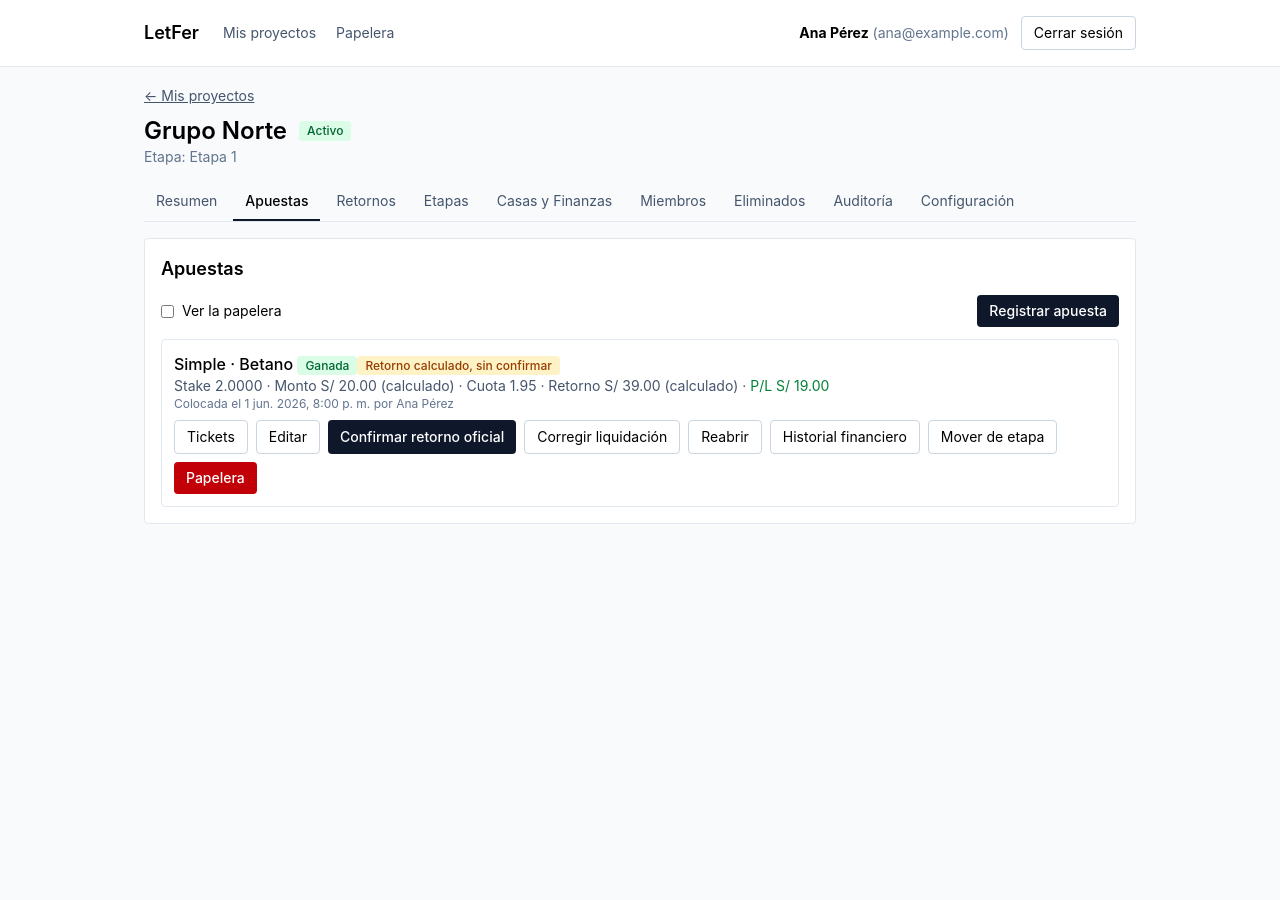
confirmar el retorno oficial (§77, §112.2, D-A12) › con diferencia muestra calculado, oficial y diferencia, y exige confirmarla y la contraseña
This screenshot has width=1280, height=900.
Click the button "Confirmar retorno oficial" at coordinates (422, 437), box [328,420,516,454]
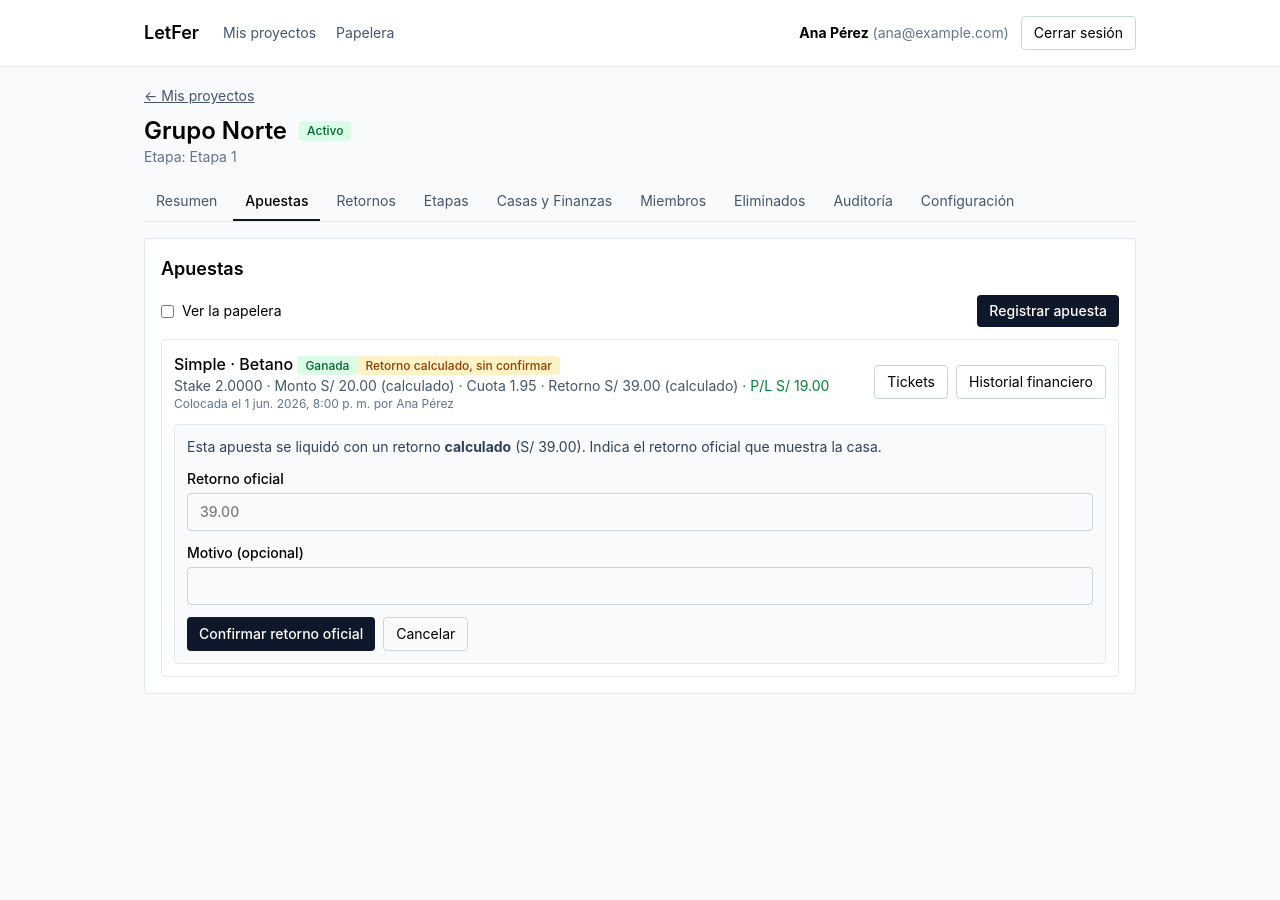
Type "38.50" into the field labelled "Retorno oficial" at coordinates (640, 512), box [187,493,1093,531]
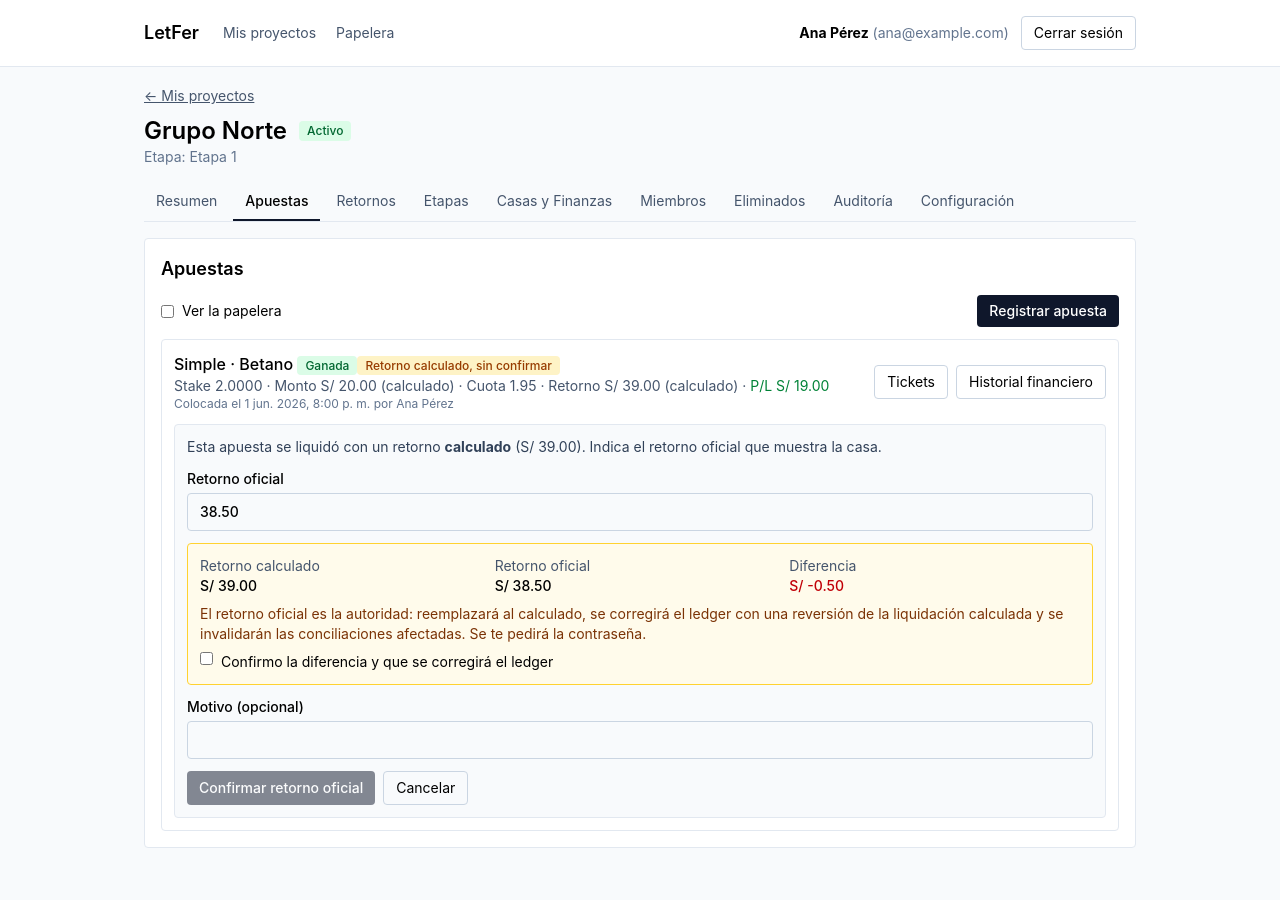
expect the text "Retorno calculado" is shown: met, box [200,557,320,574]
expect the text "S/ 39.00" is shown: met, box [200,577,257,594]
expect the text "S/ 38.50" is shown: met, box [495,577,552,594]
Click the checkbox labelled "Confirmo la diferencia y que se corregirá el ledger" at coordinates (206, 658), box [200,652,213,665]
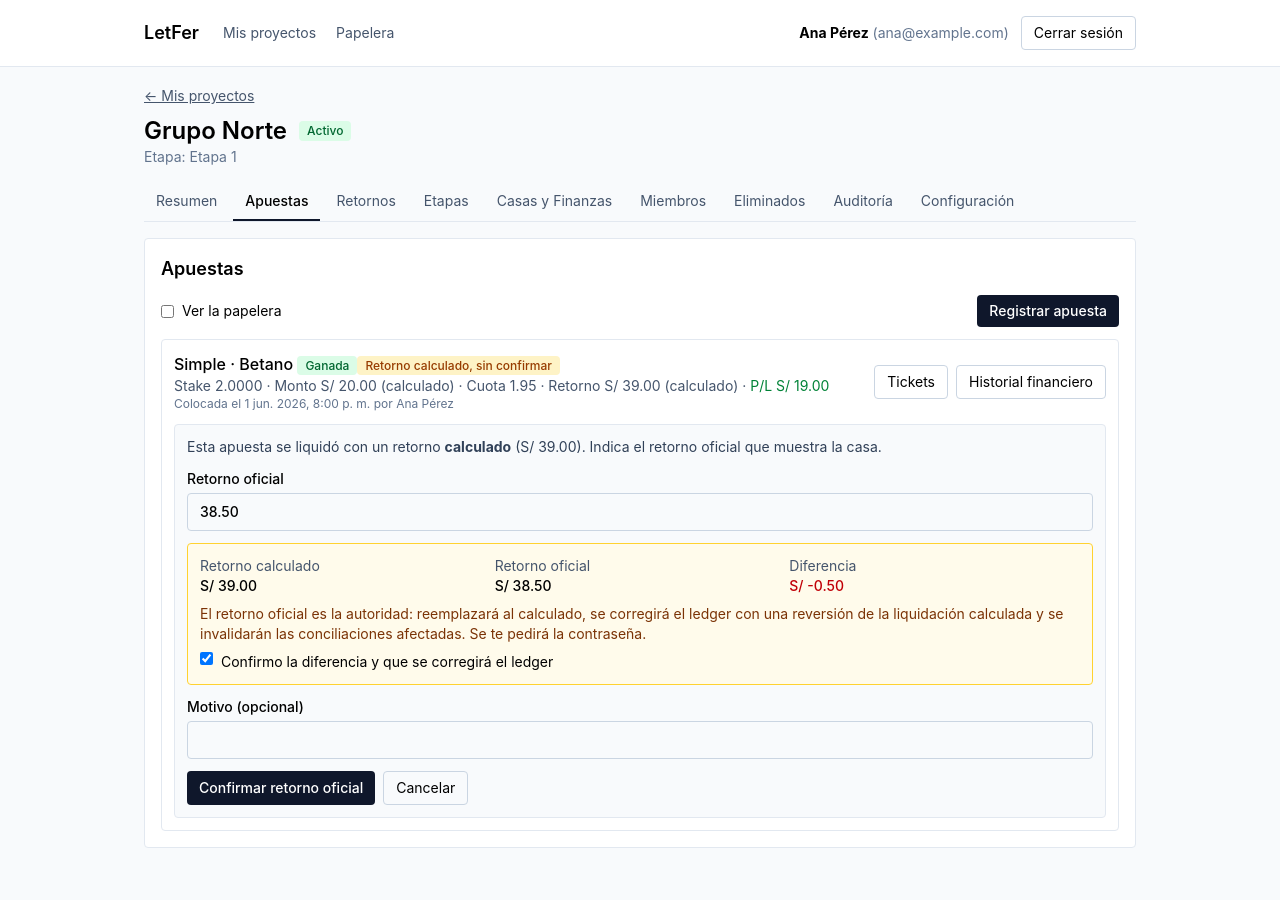
expect the button "Confirmar retorno oficial" is enabled: met
Click the button "Confirmar retorno oficial" at coordinates (281, 788), box [187,771,375,805]
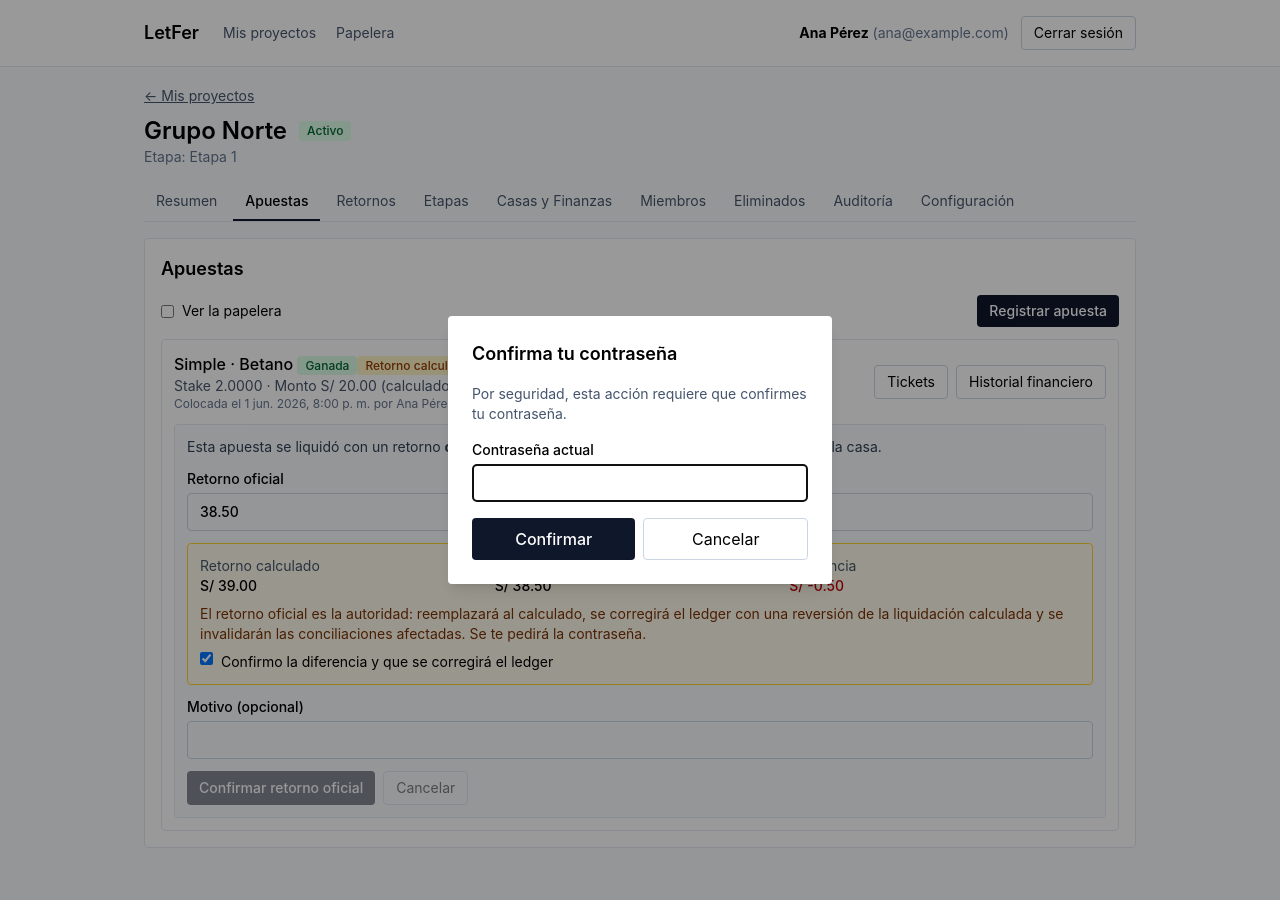
Type "mi-clave-secreta" into the password field labelled "Contraseña actual" at coordinates (640, 483), box [472,464,808,502]
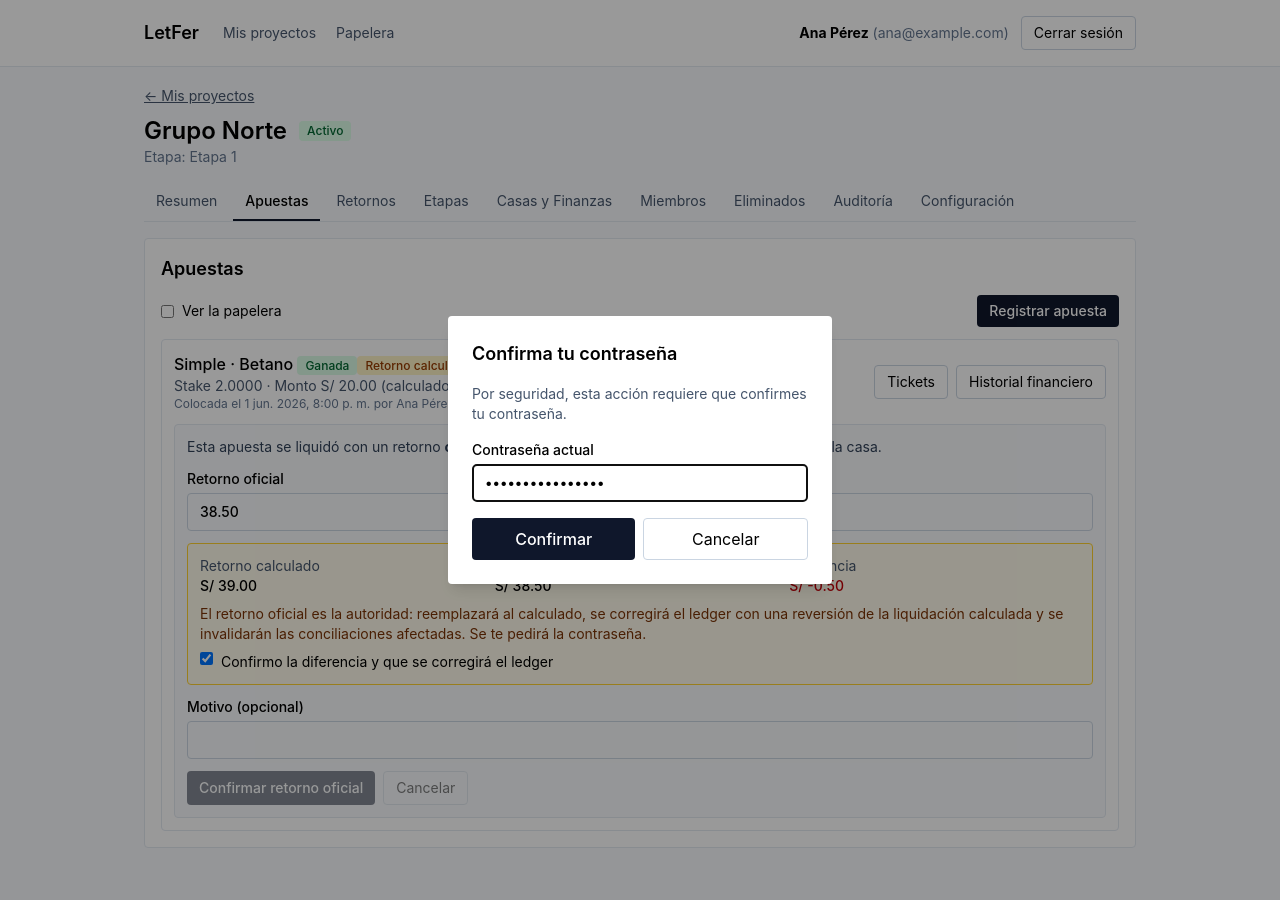
Click the button "Confirmar" at coordinates (554, 539), box [472,518,635,560]
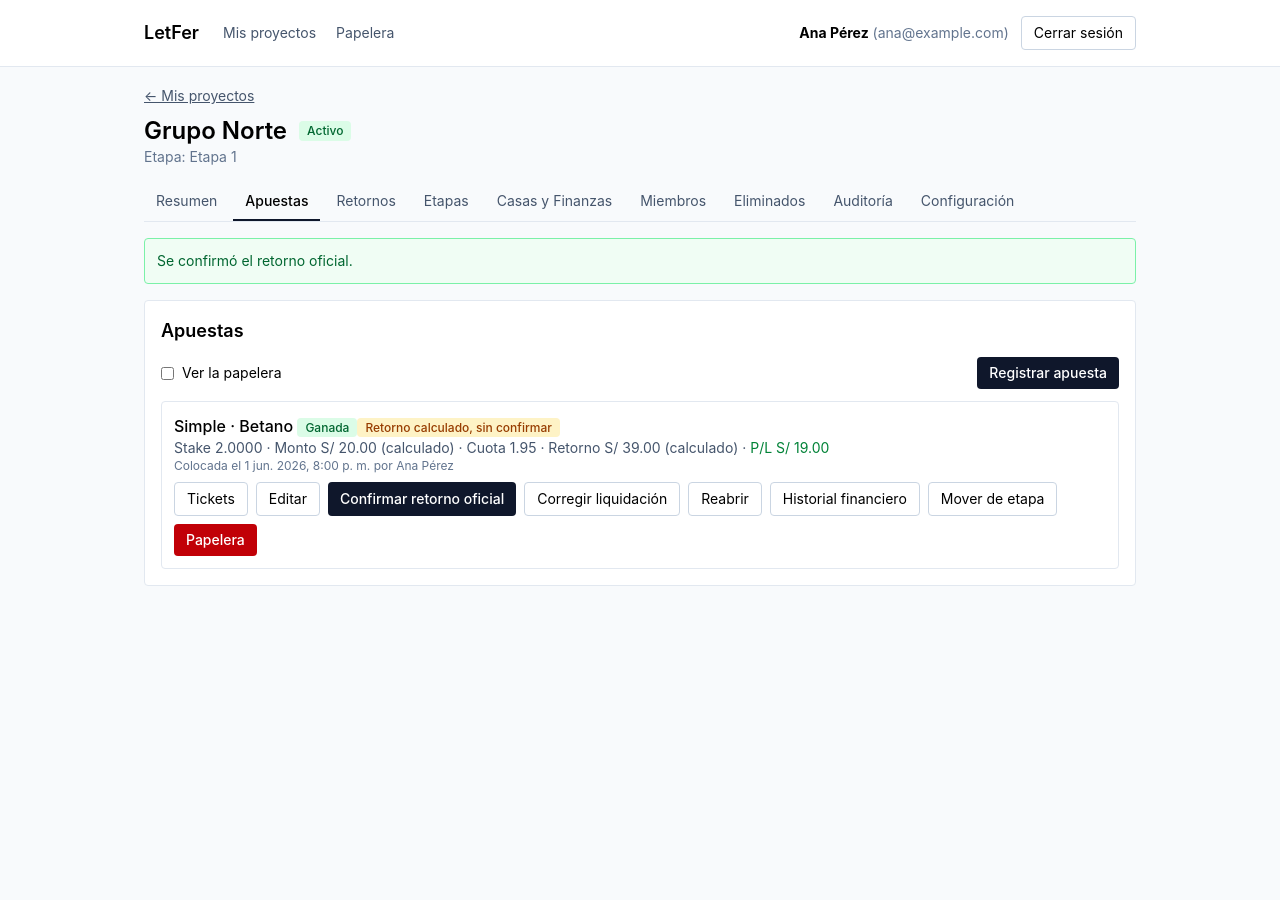
expect the text "Se confirmó el retorno oficial." is shown: met, box [144,238,1136,284]
